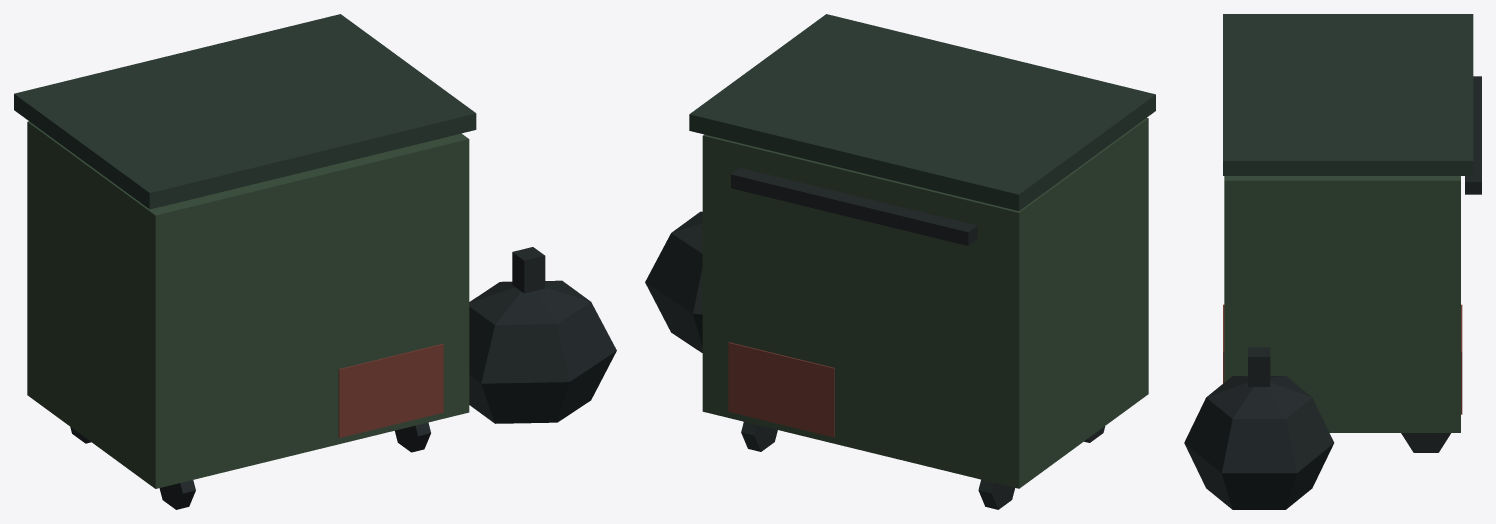
Rendered from tomberon.glb.
3 views of the same model, side by side, from view 1: azimuth 30°, elevation 25°; view 2: azimuth 150°, elevation 25°; view 3: azimuth 270°, elevation 25° (orthographic). The views are drawn at different scales.
Parts seen in each view (by area): view 1: Tomberon, Capac; view 2: Tomberon, Capac; view 3: Tomberon, Capac.
Part boxes in pixels (x1,y1,x2,y2): Tomberon: (27, 121, 616, 509); Capac: (14, 14, 476, 209); Tomberon: (645, 118, 1148, 509); Capac: (689, 14, 1155, 210); Tomberon: (1184, 76, 1481, 509); Capac: (1223, 14, 1473, 175).
Bounding box in the file's own units: 1.78 × 1.25 × 1.07.
